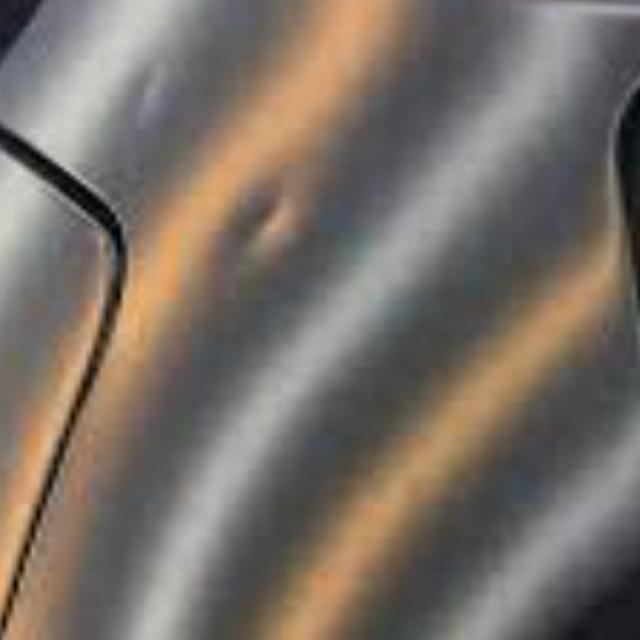dents: (164, 163, 328, 268), (87, 44, 201, 146)
